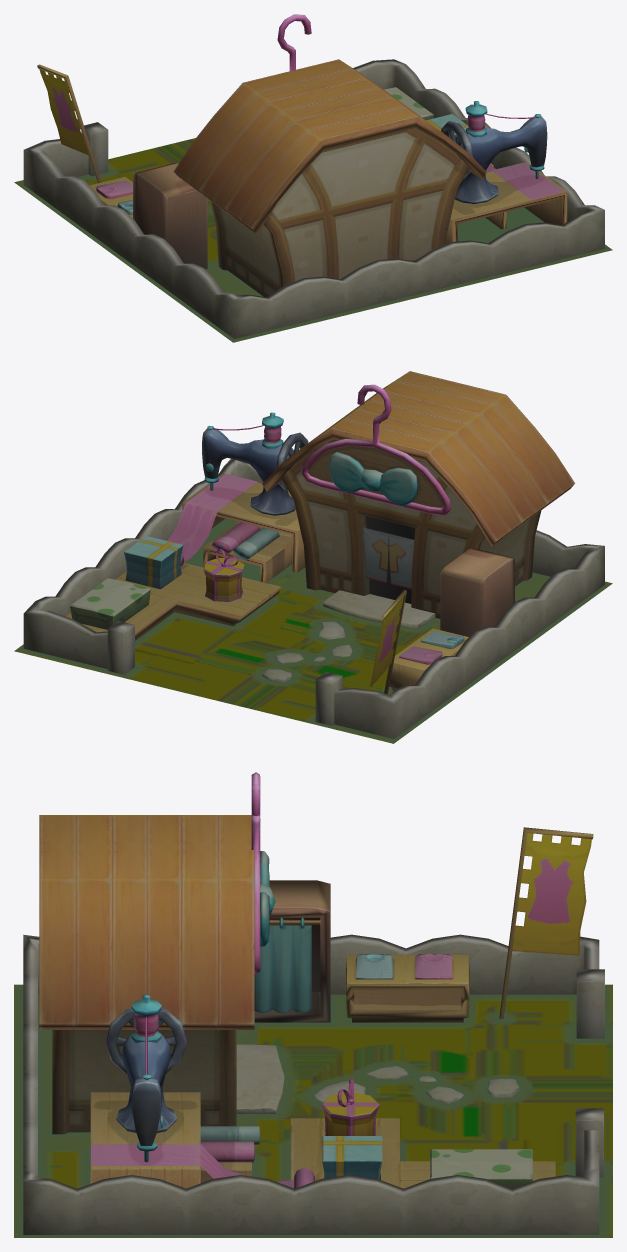
The model's file is P_build_1004_new.fbx.
The picture shows the model from 3 angles, top to bottom: view 1: azimuth 30°, elevation 25°; view 2: azimuth 150°, elevation 25°; view 3: azimuth 270°, elevation 25°; orthographic projection. The views are drawn at different scales.
Visible parts, largest first — view 1: S_build_1004_new_a, S_build_1004_new_b, P_part_1108; view 2: S_build_1004_new_a, S_build_1004_new_b, P_part_1108, P_part_1107, P_part_1106; view 3: S_build_1004_new_a, S_build_1004_new_b, P_part_1108, P_part_1107, P_part_1106.
Part boxes in pixels (x1,y1,x2,y2): S_build_1004_new_a: (23,14,604,338); S_build_1004_new_b: (14,138,612,342); P_part_1108: (384,87,433,120); S_build_1004_new_a: (23,371,604,738); S_build_1004_new_b: (14,518,612,743); P_part_1108: (70,578,150,629); P_part_1107: (124,536,183,589); P_part_1106: (203,549,244,601); S_build_1004_new_a: (23,772,604,1234); S_build_1004_new_b: (14,984,612,1237); P_part_1108: (430,1149,532,1188); P_part_1107: (322,1136,382,1179); P_part_1106: (321,1079,379,1135).
Size of the model in its own units: 6 by 3.44 by 6.
Materials: 2 (2 with a texture image).
